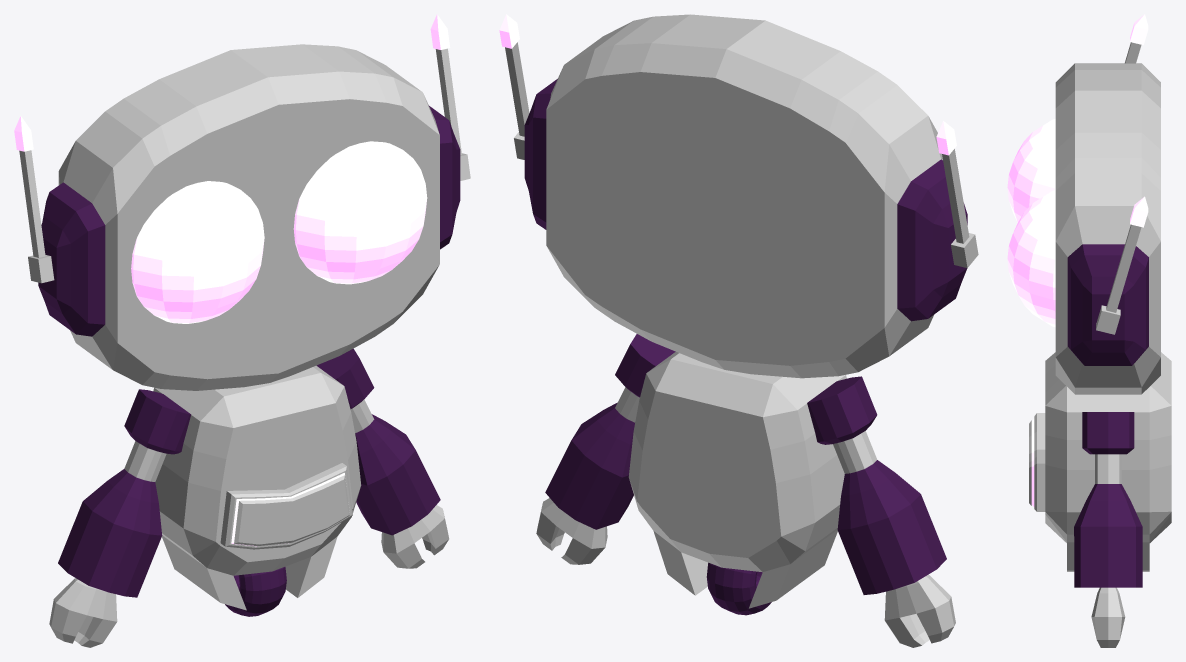
File: robot.glb
The picture shows the model from 3 angles, left to right: view 1: azimuth 30°, elevation 25°; view 2: azimuth 150°, elevation 25°; view 3: azimuth 270°, elevation 25°; orthographic projection. The views are drawn at different scales.
Parts seen in each view (by area): view 1: Cube.002, Cube, Sphere, Cube.001, Torus; view 2: Cube.002, Cube, Cube.001, Torus; view 3: Cube.002, Cube, Cube.001, Sphere.
Part boxes in pixels (bbox=[...]): Cube.002: bbox=[14, 14, 470, 390]; Cube: bbox=[153, 365, 361, 610]; Sphere: bbox=[131, 141, 427, 323]; Cube.001: bbox=[49, 348, 449, 647]; Torus: bbox=[225, 567, 286, 616]; Cube.002: bbox=[499, 14, 978, 378]; Cube: bbox=[628, 352, 846, 608]; Cube.001: bbox=[536, 334, 955, 647]; Torus: bbox=[706, 562, 771, 615]; Cube.002: bbox=[1055, 14, 1160, 394]; Cube: bbox=[1029, 352, 1171, 571]; Cube.001: bbox=[1074, 412, 1142, 647]; Sphere: bbox=[1007, 119, 1055, 327].
Size of the model in its own units: 2.11 by 2.58 by 0.7792.
